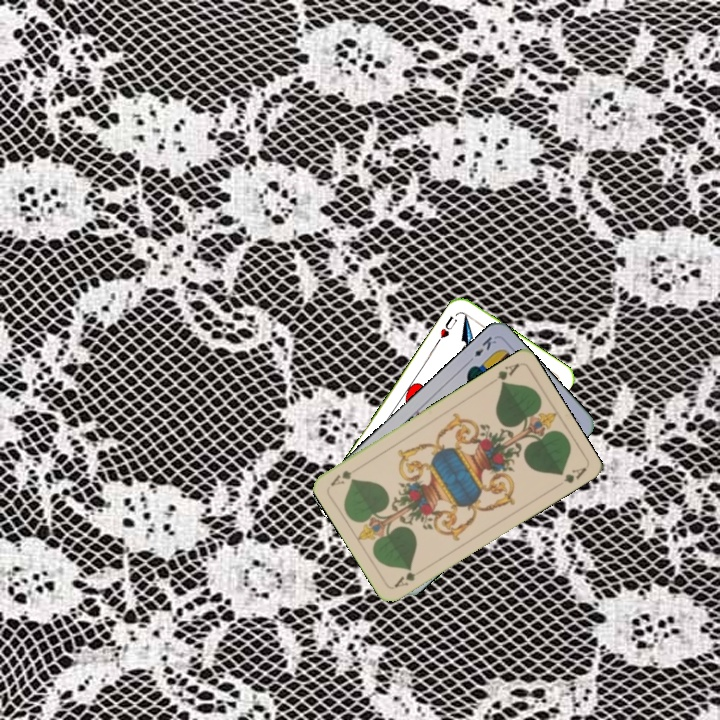EK: (464, 332, 499, 366)
GA: (485, 359, 522, 388), (390, 565, 418, 590)
HU: (433, 311, 460, 346)
